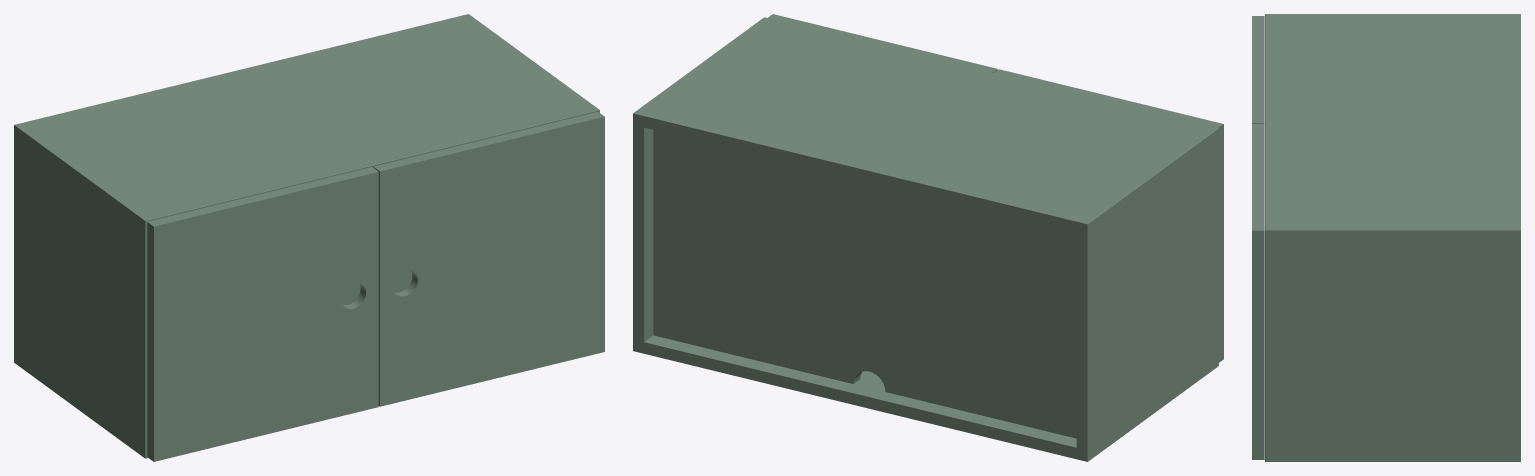
Rendered from MOD_2X1_D_B_AP_VA.glb.
The picture shows the model from 3 angles, left to right: view 1: azimuth 30°, elevation 25°; view 2: azimuth 150°, elevation 25°; view 3: azimuth 270°, elevation 25°; orthographic projection. The views are drawn at different scales.
Bounding box in the file's own units: 720 × 360 × 378.
